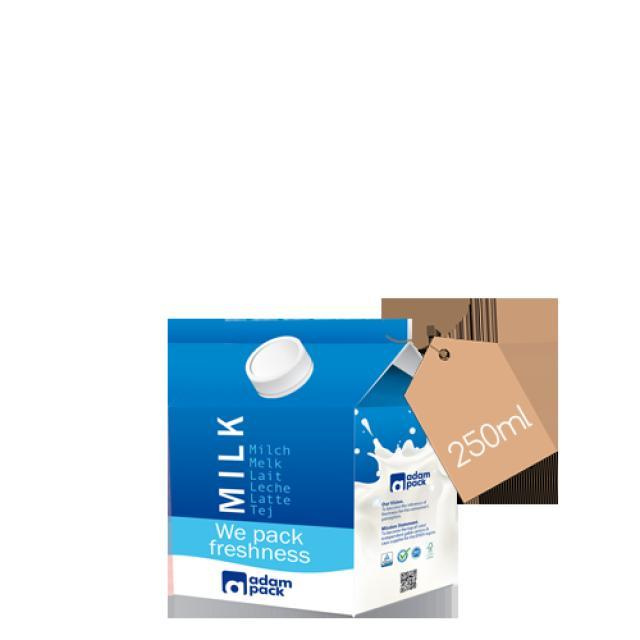Carton: (152, 315, 476, 624)
